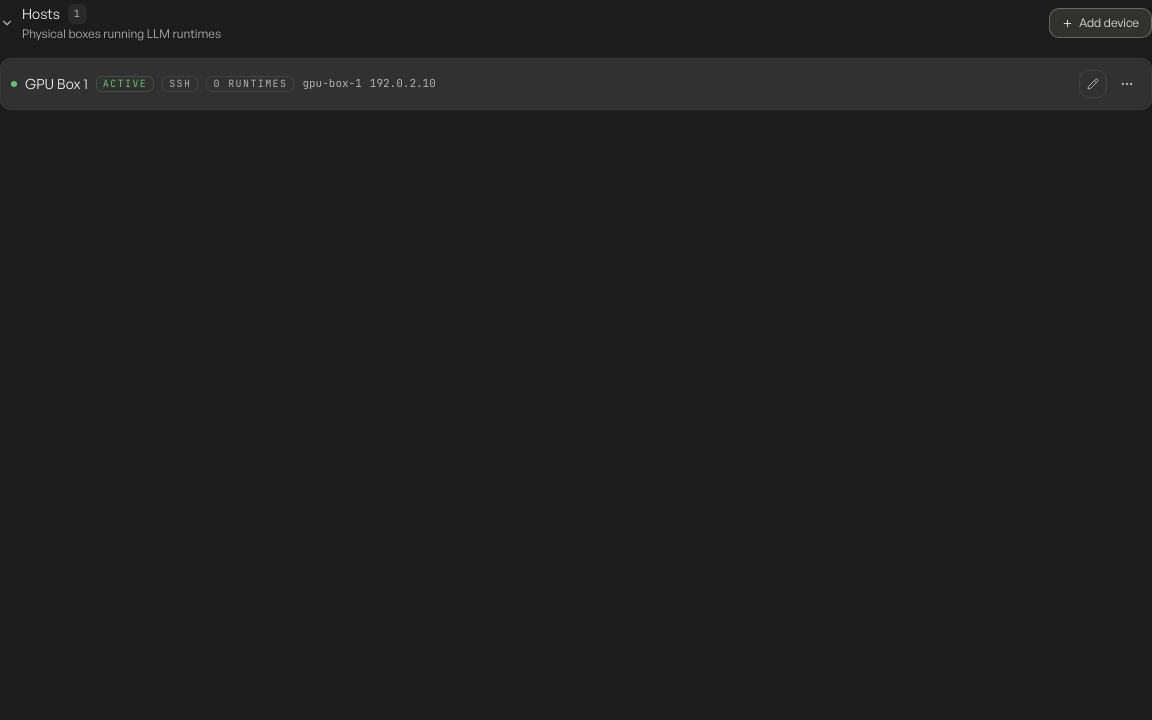
Scenario: HostsSection › routes: work on the box myself → pairing dialog
Step 1. Click the button "Add device" → (1100, 23), box [1049,8,1151,38]
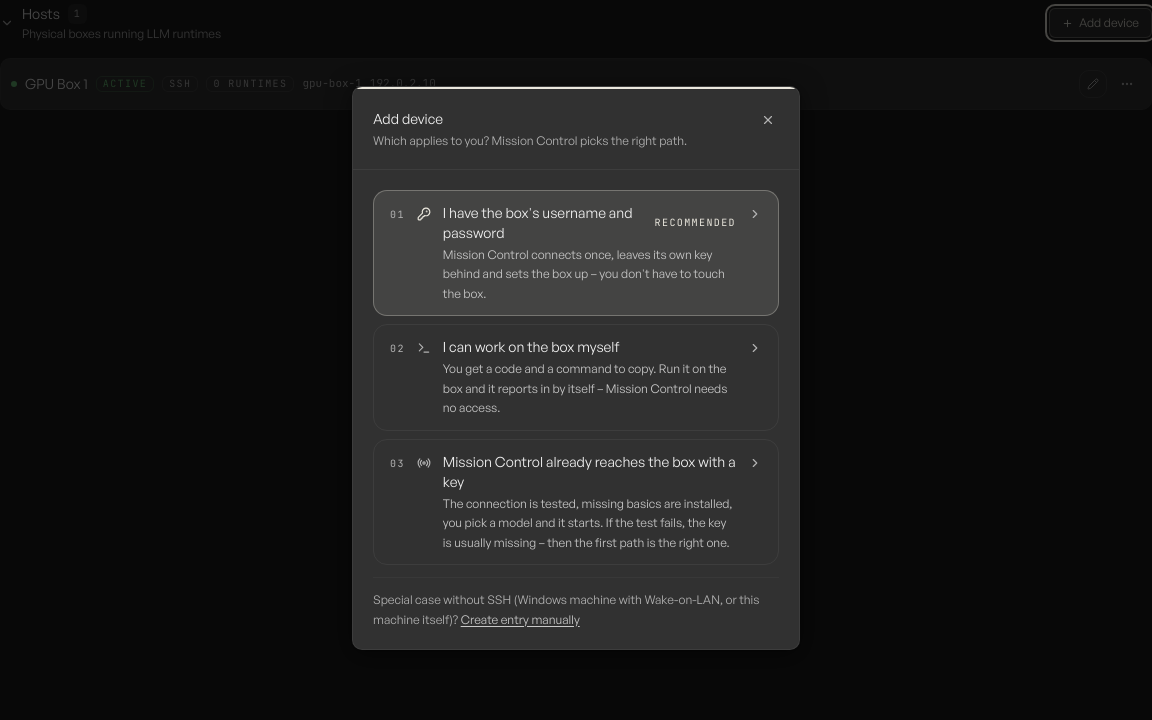
Step 2. Click the button with test id "add-device-pairing" → (576, 378), box [373,324,779,431]
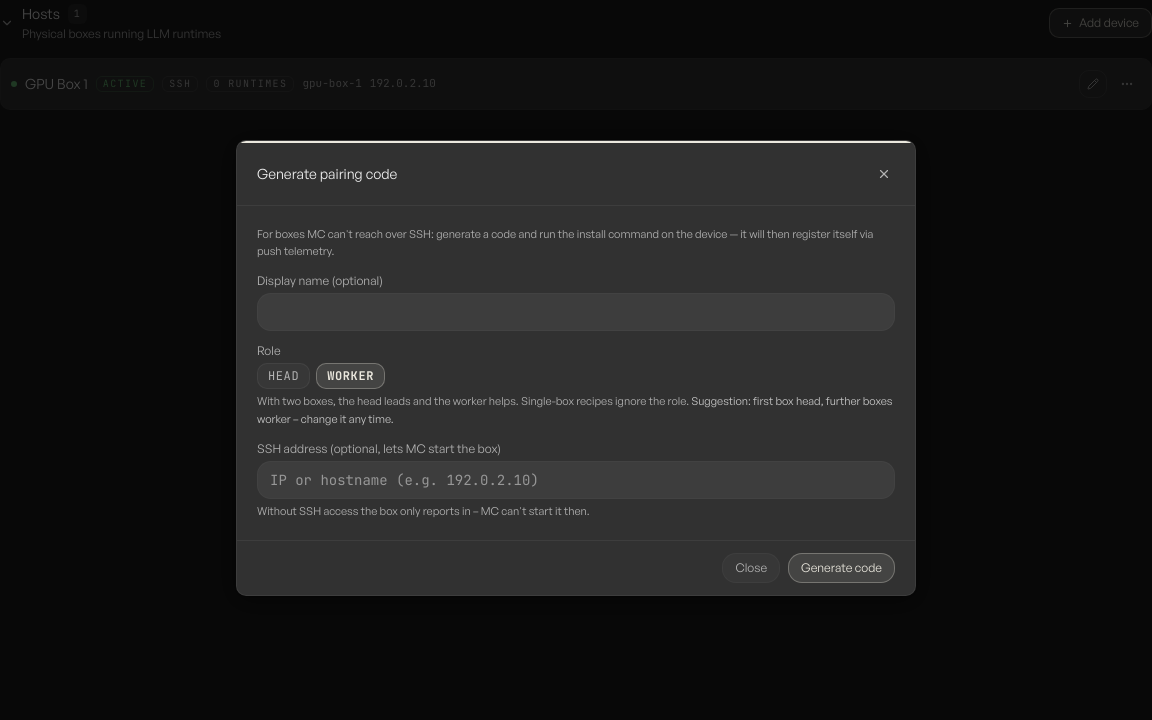
Now the button with test id "pairing-generate" is shown, box [788,553,895,583]
